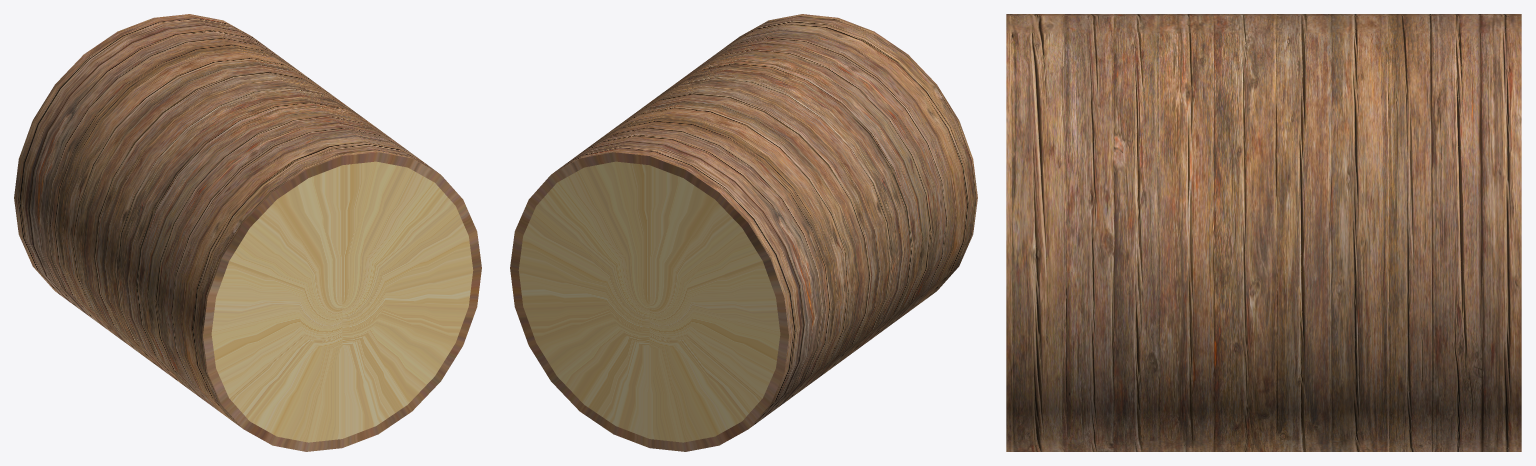
File: 3DTimberObject.FBX
3 views of the same model, side by side, from view 1: azimuth 30°, elevation 25°; view 2: azimuth 150°, elevation 25°; view 3: azimuth 270°, elevation 25° (orthographic). The views are drawn at different scales.
Visible parts, largest first — view 1: Timber; view 2: Timber; view 3: Timber.
Boxes of the visible parts, x1,y1,x2,y2 form: Timber: [14, 14, 481, 451]; Timber: [510, 14, 977, 451]; Timber: [1006, 14, 1521, 451].
Bounding box in the file's own units: 85.34 × 85.34 × 100.
Materials: 2 (2 with a texture image).
